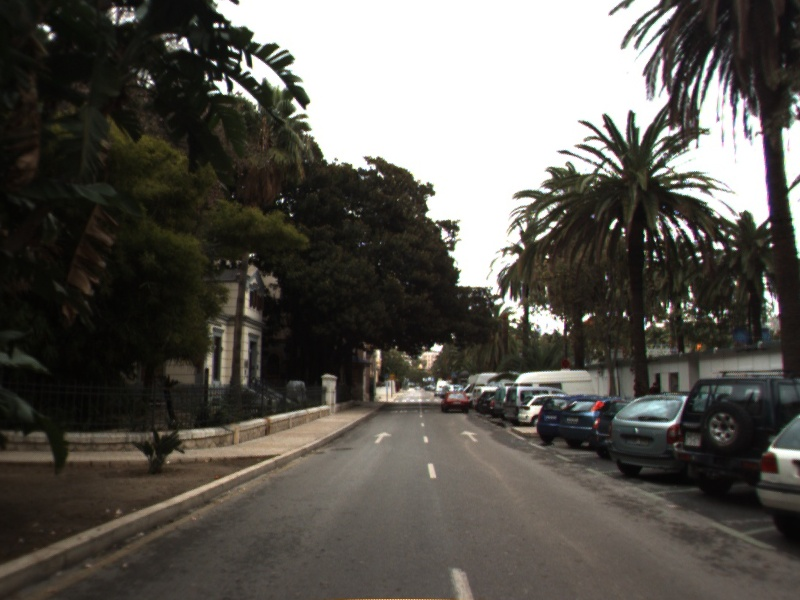STRAIGHT: (458, 428, 480, 444), (372, 430, 394, 445)
